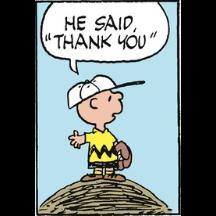charlie: (65, 73, 135, 182)
